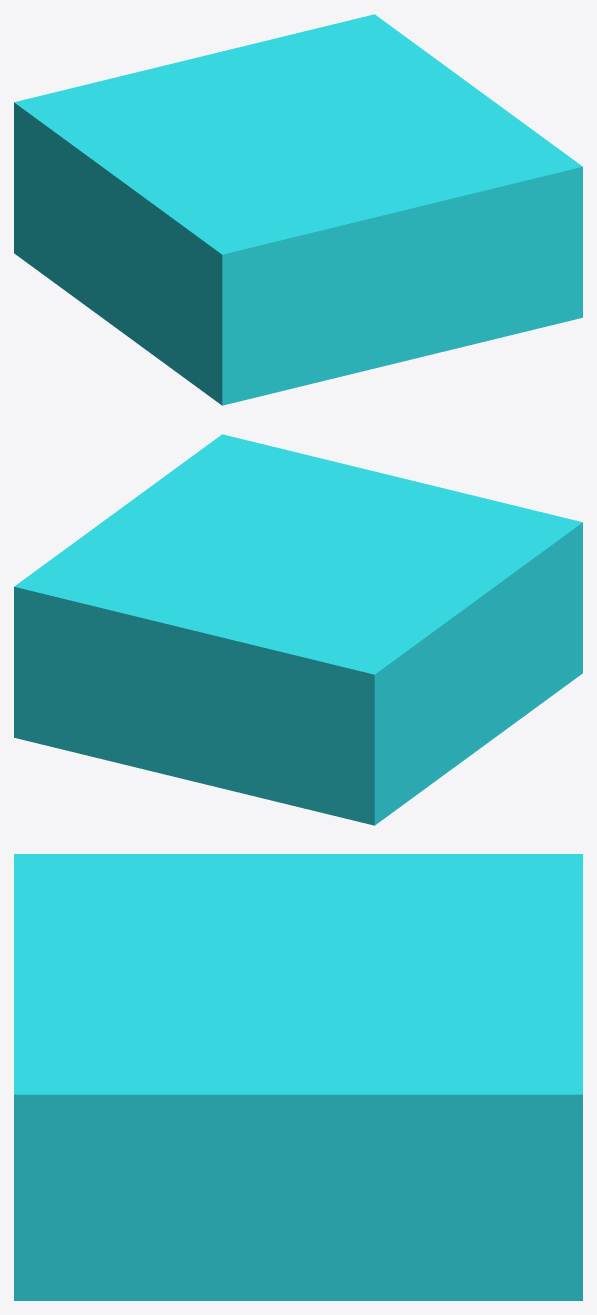
The model's file is WaterBlockFilled_4.fbx.
3 views of the same model, one above another, from view 1: azimuth 30°, elevation 25°; view 2: azimuth 150°, elevation 25°; view 3: azimuth 270°, elevation 25° (orthographic). The views are drawn at different scales.
Visible parts, largest first — view 1: WaterBlockFilled_4; view 2: WaterBlockFilled_4; view 3: WaterBlockFilled_4.
Part boxes in pixels (<box>): WaterBlockFilled_4: <box>14,14,582,405</box>; WaterBlockFilled_4: <box>14,434,582,825</box>; WaterBlockFilled_4: <box>14,854,582,1300</box>.
Size of the model in its own units: 1 by 0.4 by 1.
Materials: 1 (1 with a texture image).
